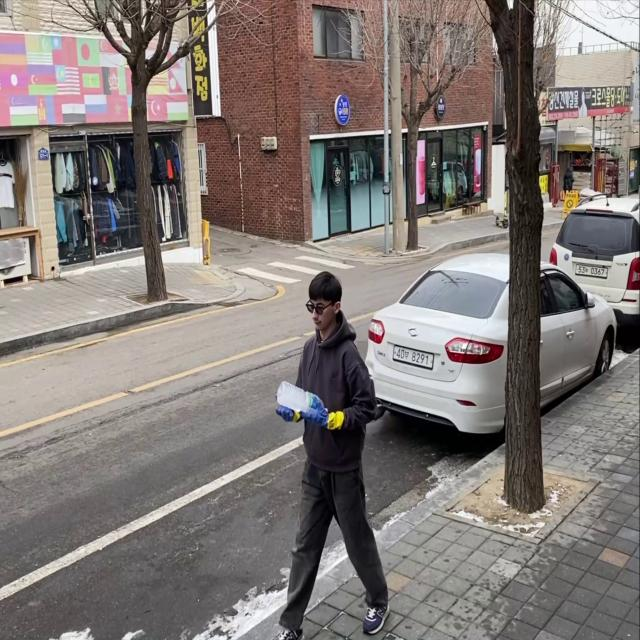gloved_hand: (299, 393, 332, 429), (272, 400, 299, 424)
